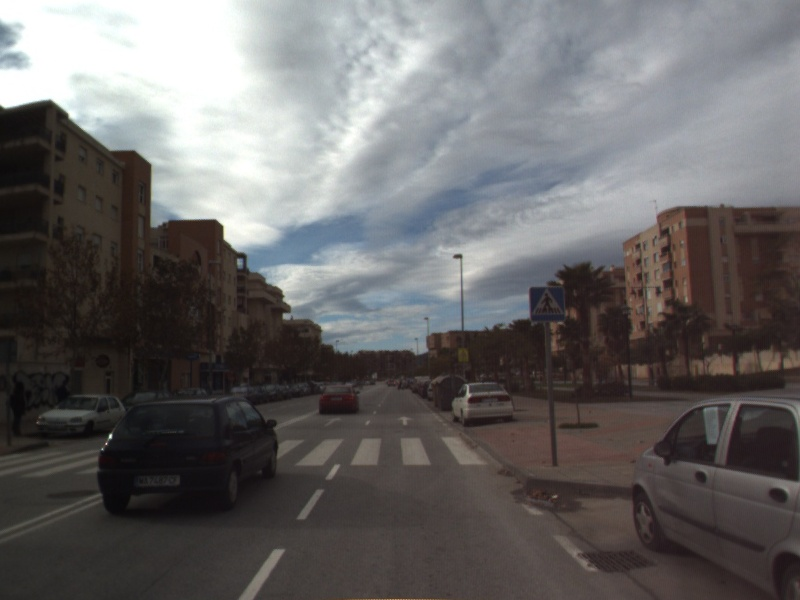STRAIGHT: (322, 415, 345, 428), (395, 414, 415, 427)
